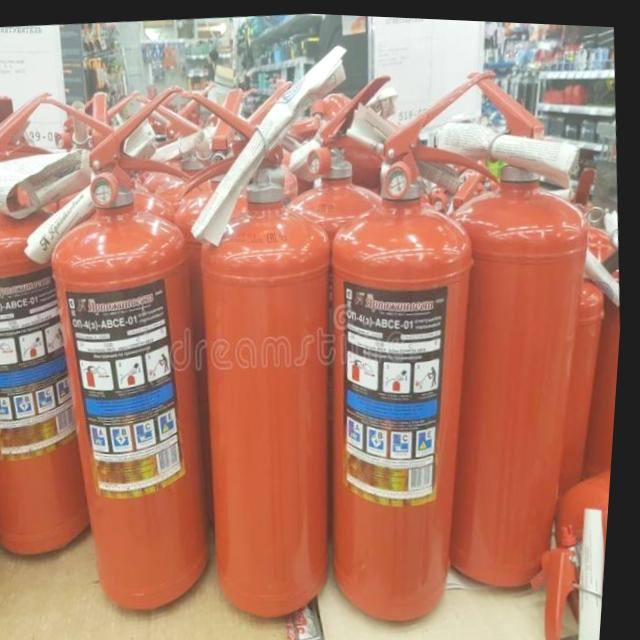FireExtinguisher: (286, 46, 549, 640), (144, 67, 393, 634), (16, 66, 261, 631), (397, 52, 636, 598), (0, 77, 144, 579), (521, 433, 618, 640)
